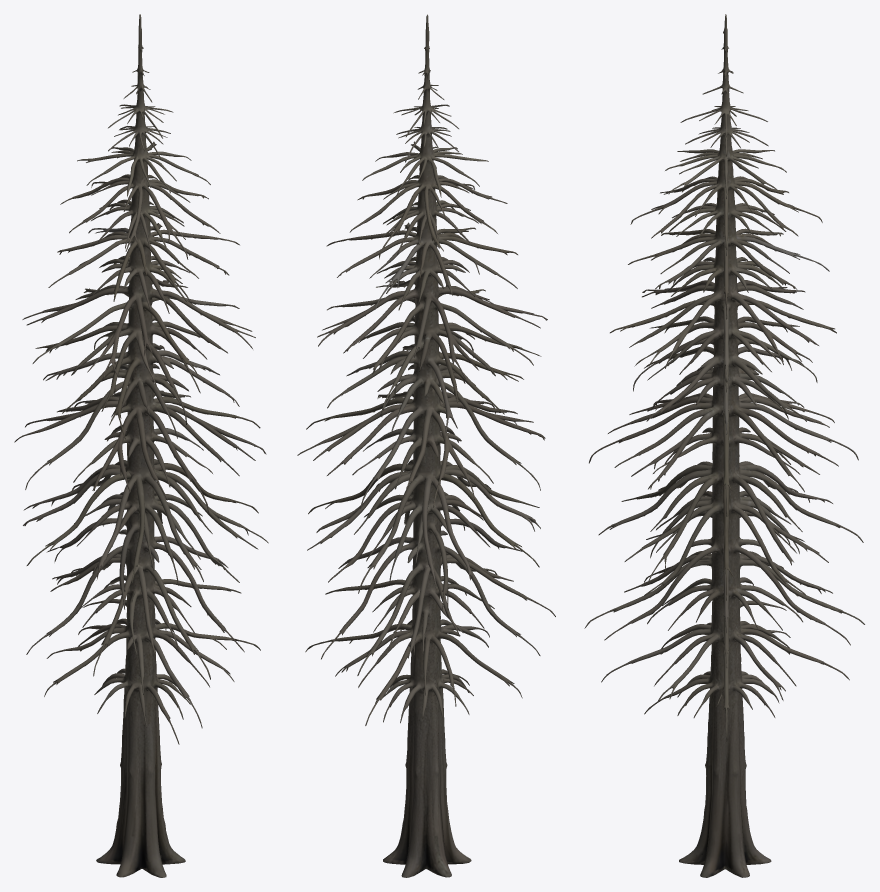
File: spruce1.glb
The picture shows the model from 3 angles, left to right: view 1: azimuth 30°, elevation 25°; view 2: azimuth 150°, elevation 25°; view 3: azimuth 270°, elevation 25°; orthographic projection.
Visible parts, largest first — view 1: node_0; view 2: node_0; view 3: node_0.
Boxes of the visible parts, x1=… form: node_0: x1=14, y1=14, x2=268, y2=877; node_0: x1=297, y1=14, x2=555, y2=877; node_0: x1=584, y1=14, x2=864, y2=877.
Size of the model in its own units: 0.348 by 1.19 by 0.3592.
Materials: 1 (1 with a texture image).
